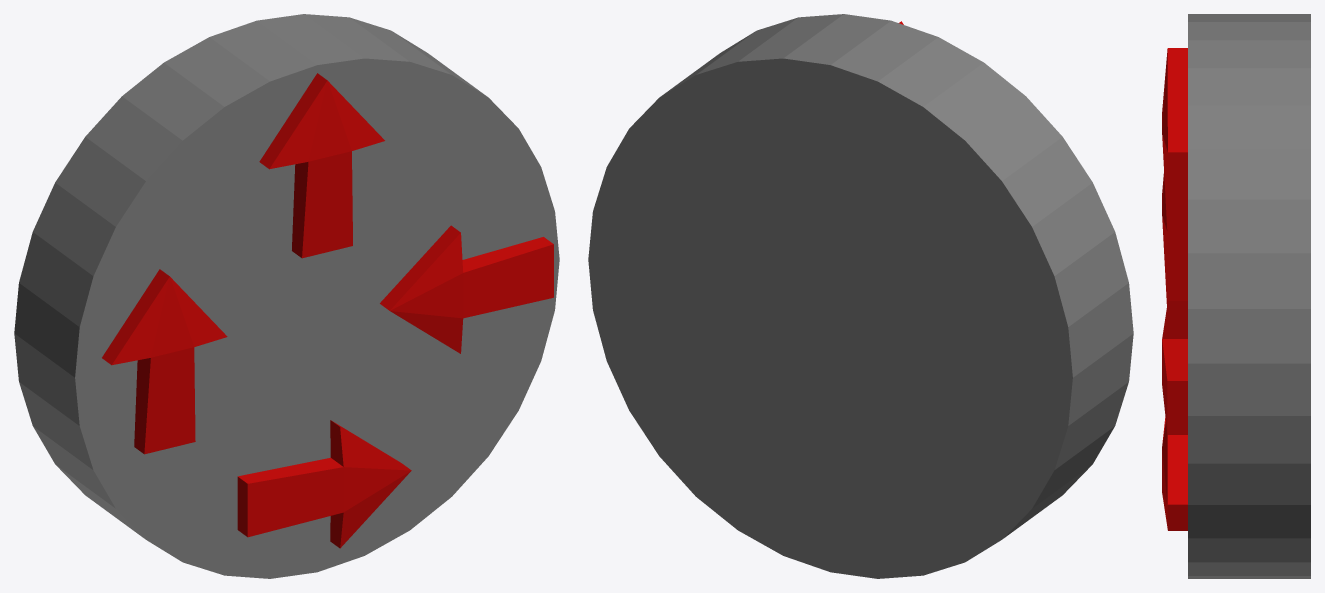
File: stoneRemote_disk.fbx
3 renders of one model, left to right at view 1: azimuth 30°, elevation 25°; view 2: azimuth 150°, elevation 25°; view 3: azimuth 270°, elevation 25°, orthographic.
Parts seen in each view (by area): view 1: Cylinder.001; view 2: Cylinder.001; view 3: Cylinder.001.
Part boxes in pixels (<box>): Cylinder.001: <box>14,14,559,578</box>; Cylinder.001: <box>588,14,1133,578</box>; Cylinder.001: <box>1162,14,1310,578</box>.
Bounding box in the file's own units: 180 × 180 × 47.29.
